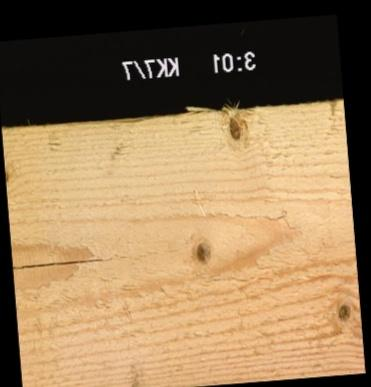dry_knot: (228, 115, 241, 140)
sound_knot: (193, 238, 212, 265), (335, 302, 351, 320)
split: (11, 259, 103, 267)
